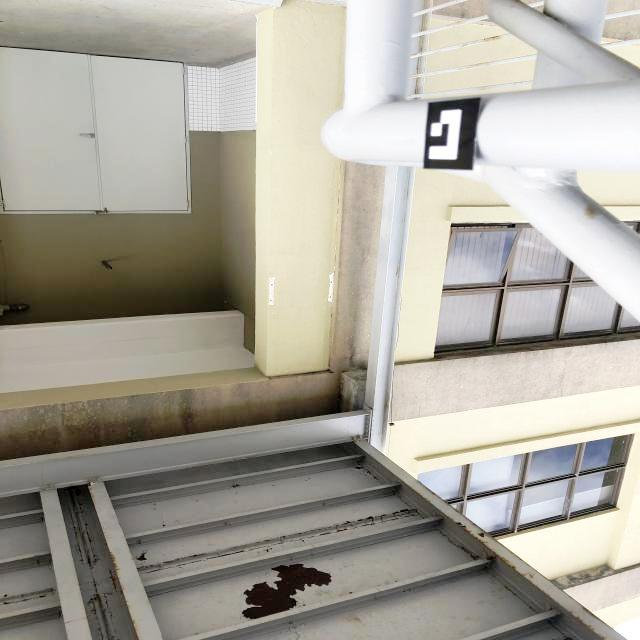Corrosion: (242, 563, 332, 619), (447, 515, 517, 570), (339, 509, 416, 526), (447, 540, 478, 560), (566, 610, 594, 631), (165, 553, 207, 563), (457, 62, 490, 70), (109, 551, 120, 574), (87, 482, 96, 508), (108, 567, 117, 588), (90, 594, 102, 606), (484, 35, 502, 41), (136, 552, 147, 561), (485, 555, 497, 561), (586, 209, 594, 218), (409, 74, 425, 78), (87, 555, 92, 566), (599, 633, 606, 640), (245, 455, 261, 458), (364, 469, 371, 475), (409, 53, 418, 57), (478, 533, 485, 538), (529, 573, 534, 579), (354, 467, 362, 470), (461, 44, 468, 47), (373, 475, 377, 479), (513, 592, 517, 596), (369, 406, 372, 410), (522, 574, 527, 576), (409, 94, 412, 97), (150, 565, 154, 567), (354, 440, 356, 443), (196, 633, 199, 635), (385, 404, 387, 407)
